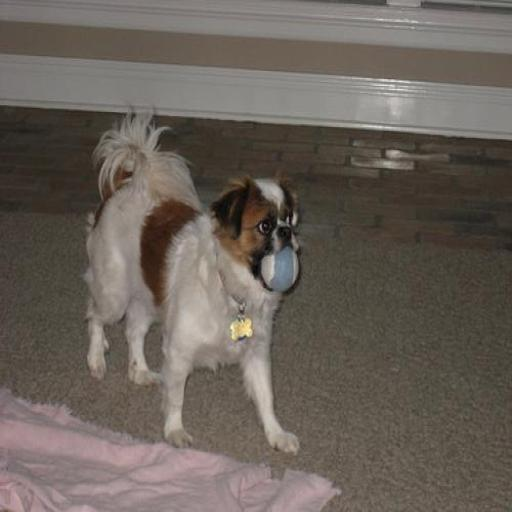dog_face: (214, 186, 313, 308)
